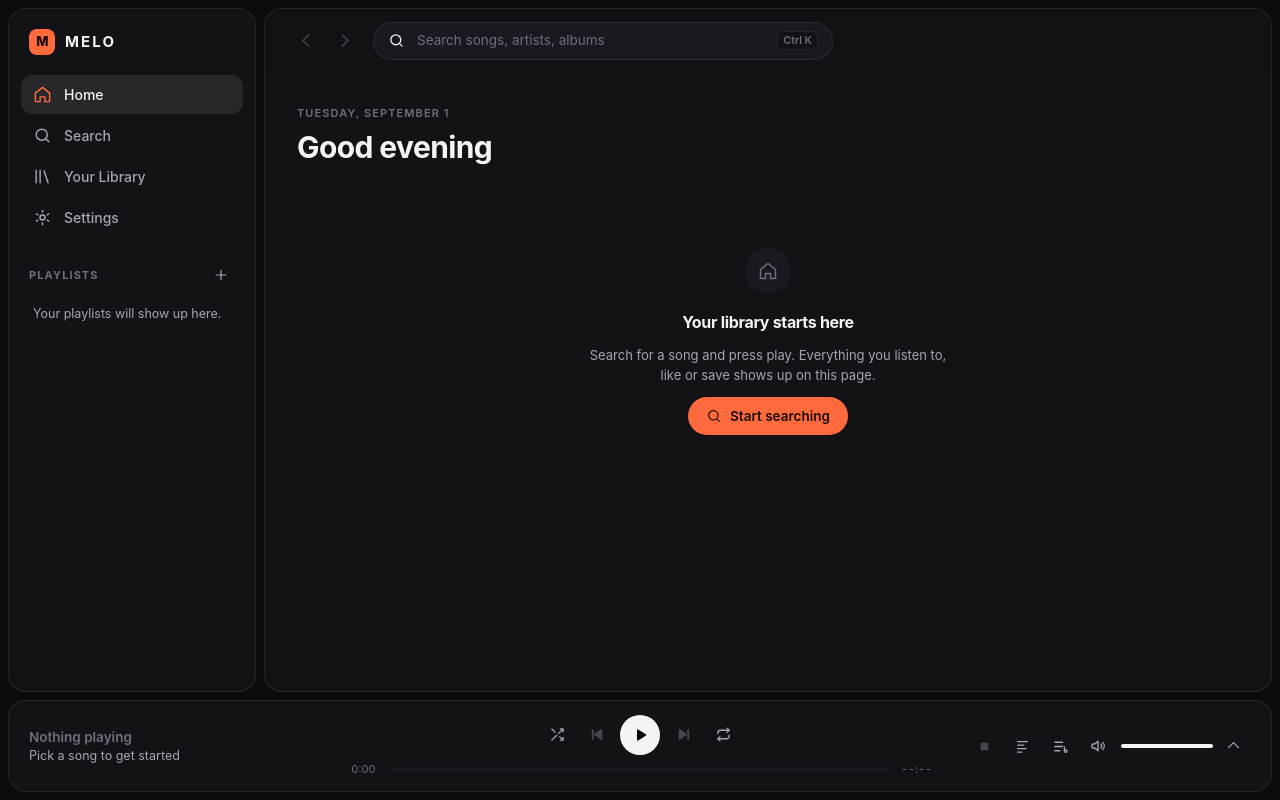
Test: MELO application › walks search → single-click play → mini player → queue → autoplay advance
Expected: the heading "Your library starts here" is shown, top-left (682, 310), bottom-right (854, 334)
# Search through the real search field.
In the field labelled "Search": (591, 41) top-left (415, 29), bottom-right (767, 52), type "night"
Then press Enter
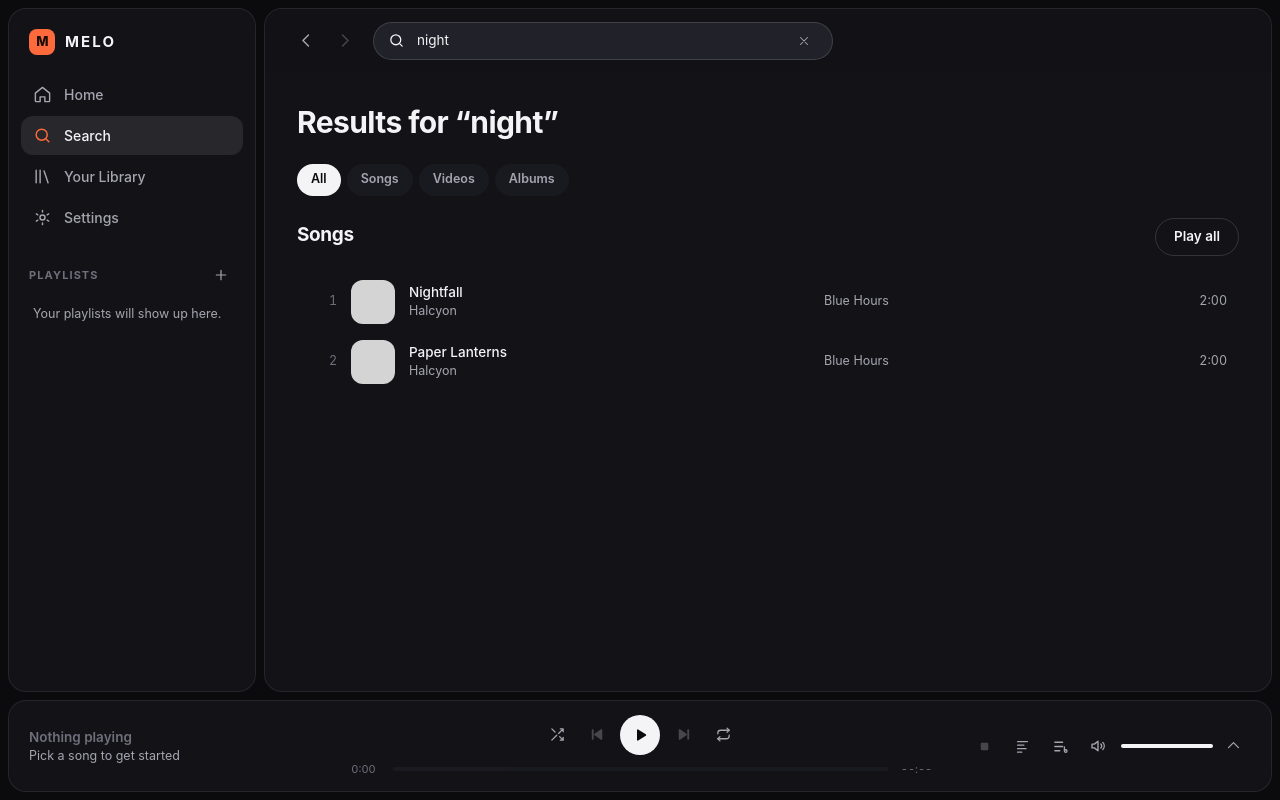
Expected: the text "Nightfall" is shown, top-left (409, 282), bottom-right (463, 302)
# Single click plays ONLY the chosen track.
Click the button with aria-label "Play Nightfall": (373, 302) top-left (297, 272), bottom-right (1239, 332)
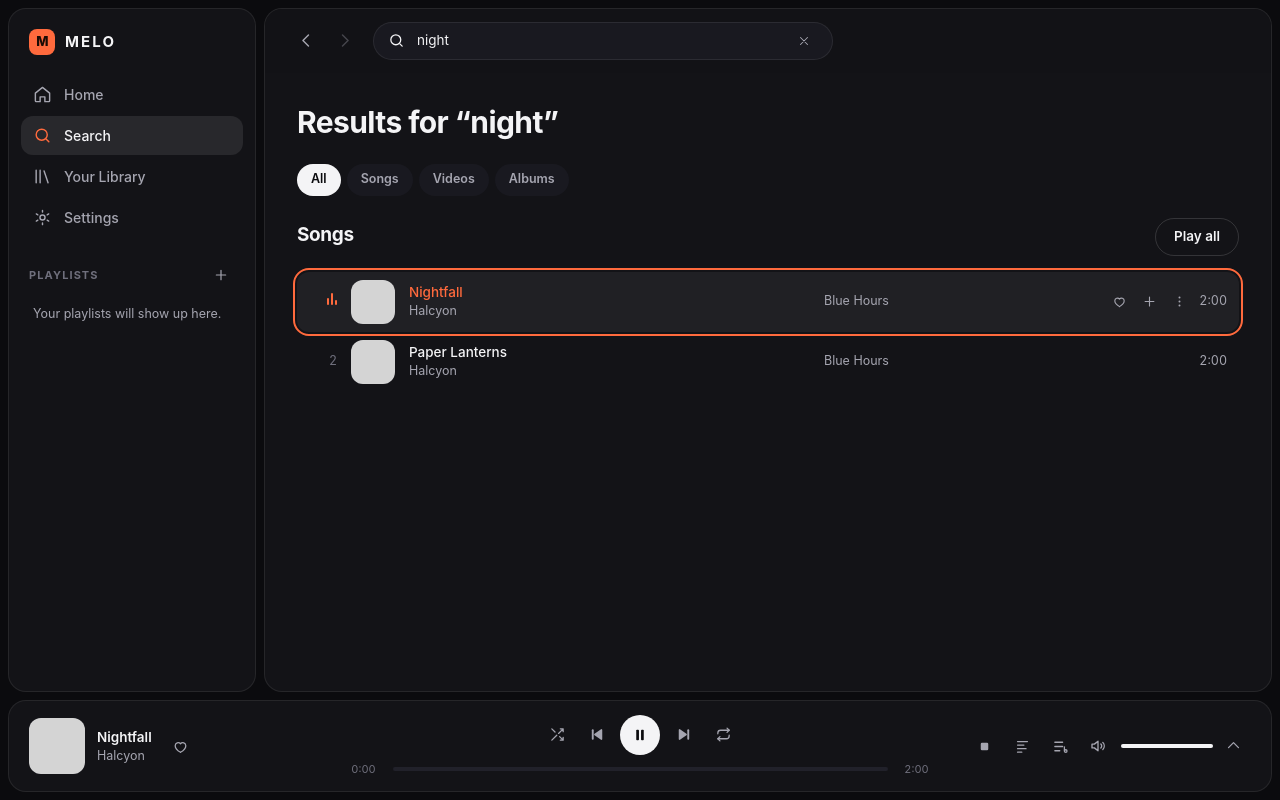
Expected: the button "Nightfall" is shown, top-left (97, 726), bottom-right (152, 747)
Expected: the text "Halcyon" in the row of "0:00" is shown, top-left (97, 748), bottom-right (145, 763)
# The global queue panel separates the explicit queue from autoplay.
Click the button named "Queue": (1060, 746) top-left (1043, 729), bottom-right (1077, 763)
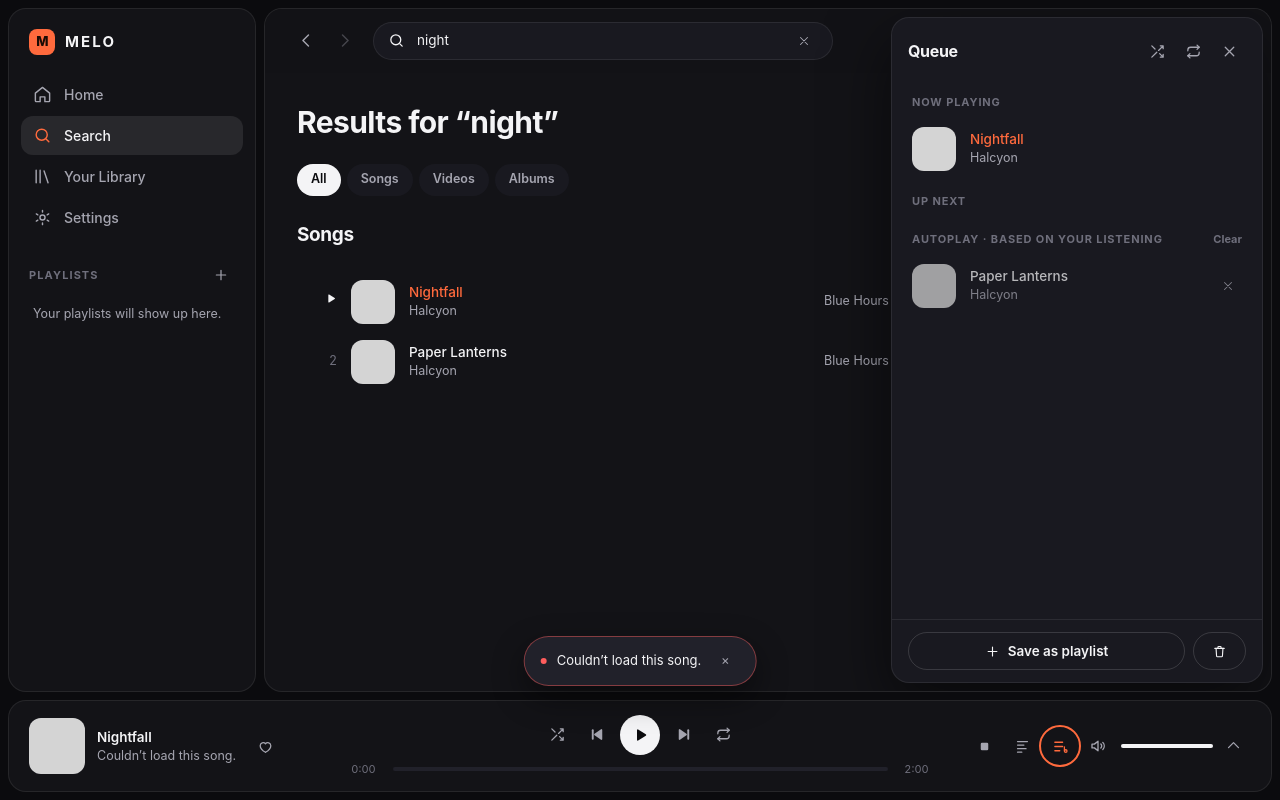
Expected: the text "Paper Lanterns" below "Autoplay · based on your listening" is shown, top-left (970, 268), bottom-right (1068, 284)
